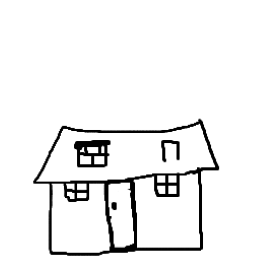bottom_placed_house: (2, 2, 260, 260)
chimney: (67, 134, 114, 175), (156, 134, 189, 170)
closed_window: (146, 168, 186, 199), (58, 178, 90, 209)
door: (99, 176, 143, 255)
roof: (21, 111, 228, 186)
wall: (44, 161, 209, 259)
